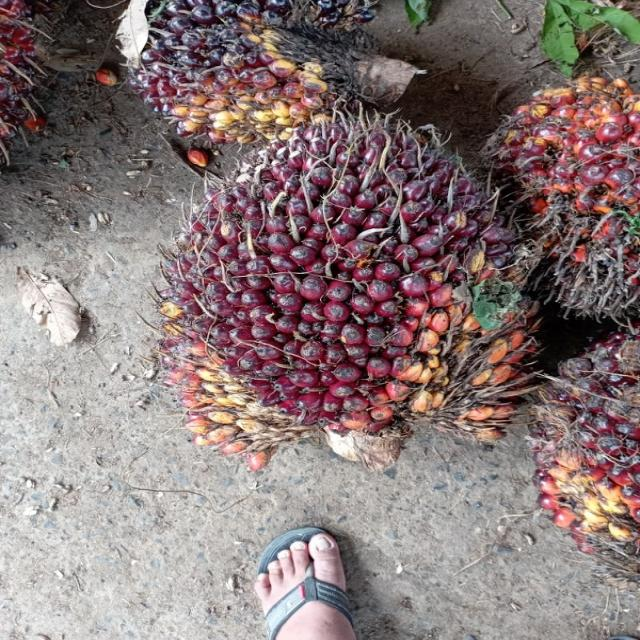fraksi 00: (114, 0, 398, 145)
fraksi 1: (140, 111, 538, 460)
fraksi 3: (469, 56, 640, 320)
